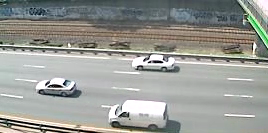car: (106, 97, 171, 133), (34, 75, 81, 99), (130, 52, 179, 75)
